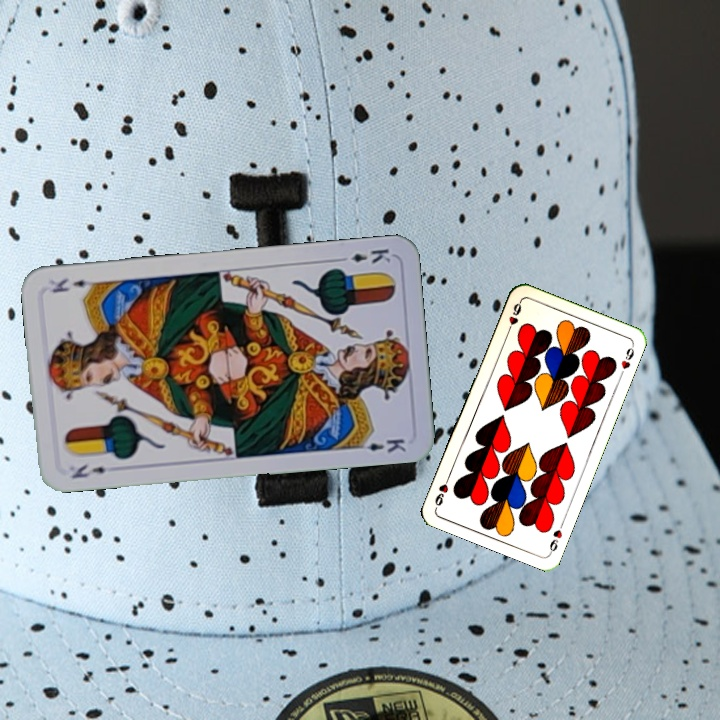EK: (334, 244, 393, 267), (67, 460, 108, 481)
H9: (503, 297, 524, 336), (545, 517, 566, 556)
